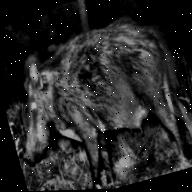boar: (0, 3, 192, 192)
